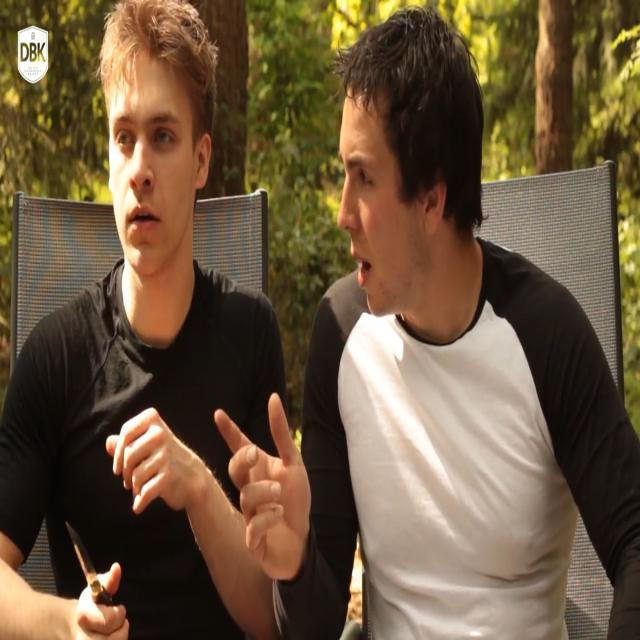knife: (63, 515, 113, 609)
